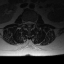CCS_normal: (28, 19, 30, 28)
LFS_normal: (32, 20, 34, 26)
LLS_normal: (30, 20, 32, 26)
RFS_normal: (24, 19, 26, 26)
RLS_normal: (26, 20, 28, 26)
